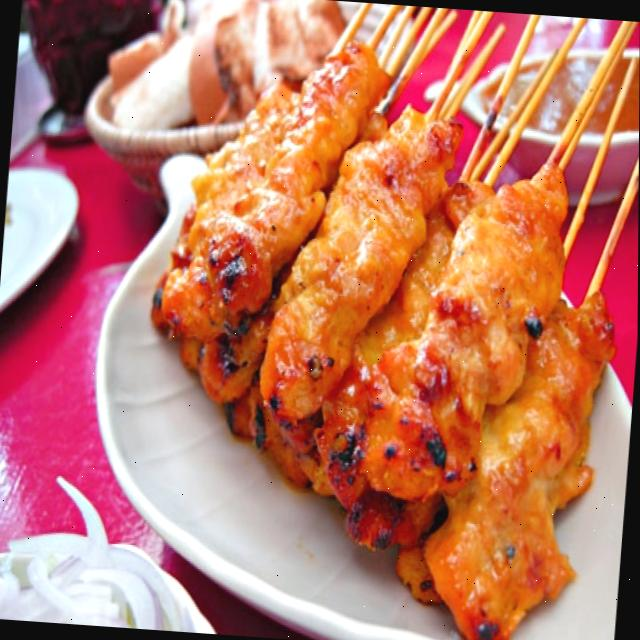牛肉菜式: (62, 7, 640, 636)
